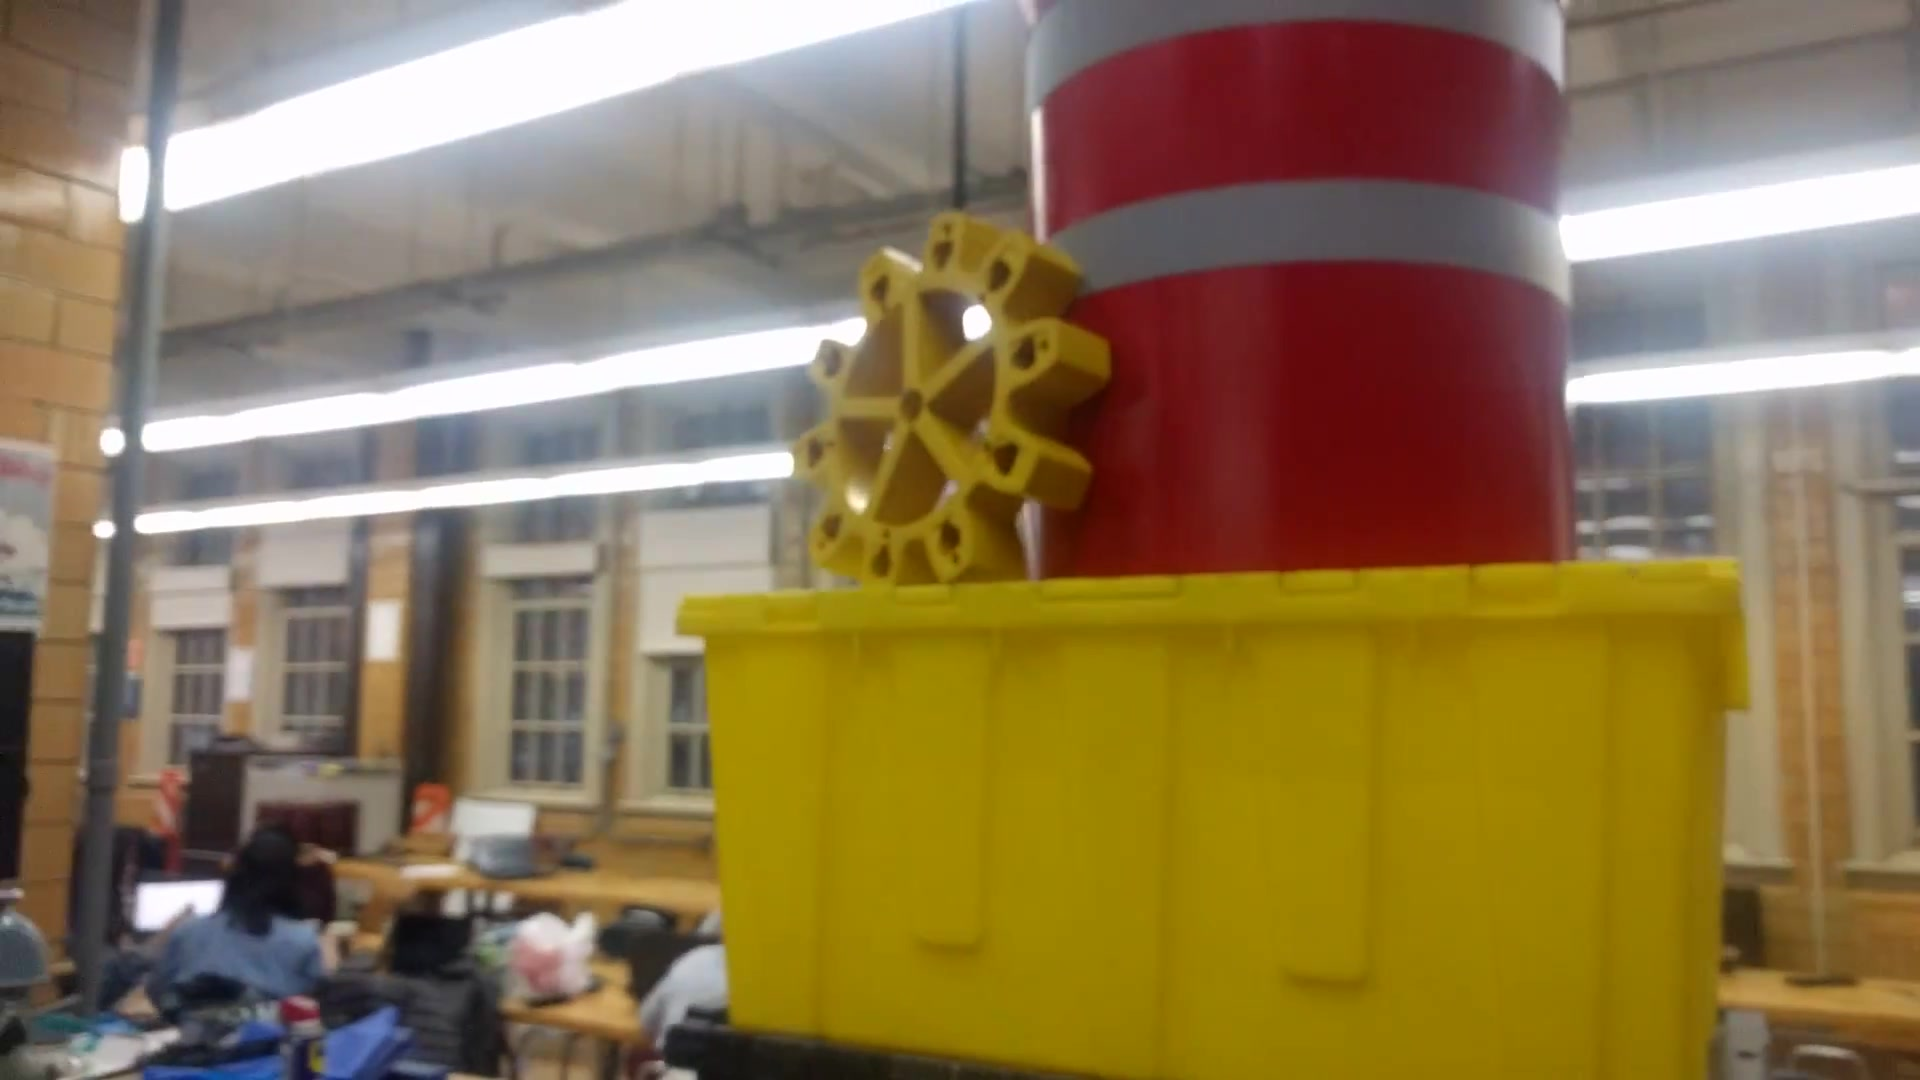gear: (769, 195, 1133, 622)
